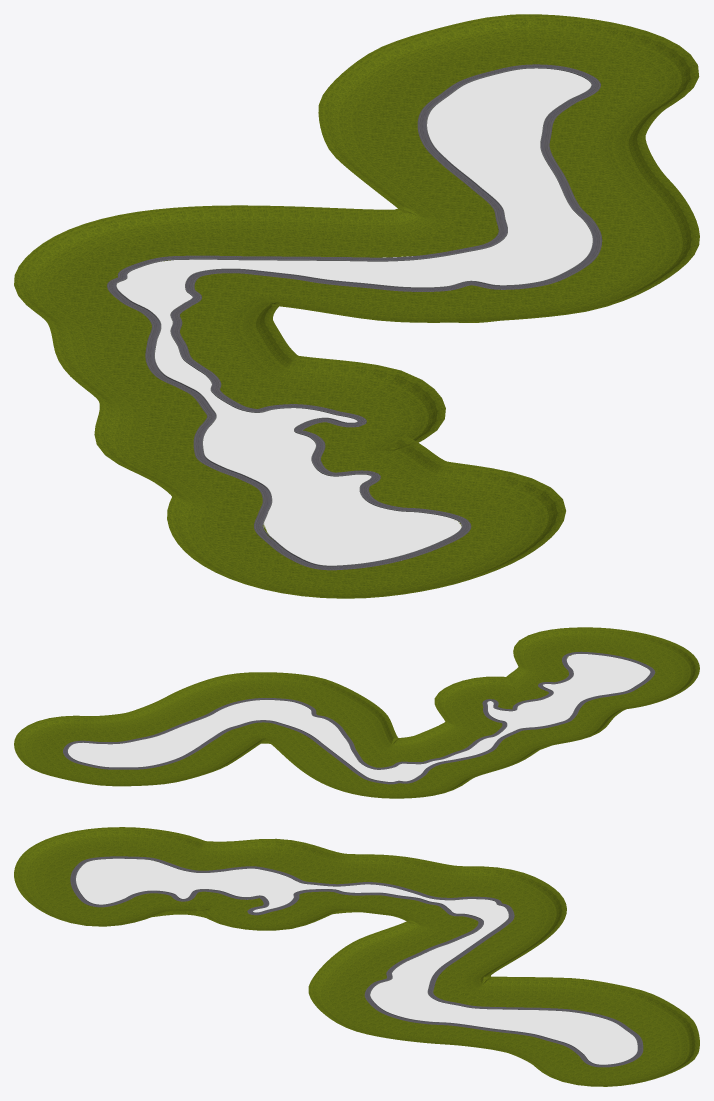
The model's file is park.gltf.
3 renders of one model, top to bottom at view 1: azimuth 30°, elevation 25°; view 2: azimuth 150°, elevation 25°; view 3: azimuth 270°, elevation 25°, orthographic. The views are drawn at different scales.
Parts seen in each view (by area): view 1: hill, grass, lake, path, lake_border; view 2: hill, grass, lake, path, lake_border; view 3: hill, grass, lake, path, lake_border.
Boxes of the visible parts, x1,y1,x2,y2 form: hill: (14, 14, 699, 598); grass: (64, 45, 649, 586); lake: (116, 68, 592, 565); path: (107, 64, 602, 570); lake_border: (116, 67, 593, 566); hill: (14, 627, 699, 798); grass: (39, 643, 674, 792); lake: (68, 654, 650, 781); path: (63, 651, 655, 784); lake_border: (67, 653, 650, 782); hill: (14, 827, 699, 1086); grass: (44, 845, 669, 1079); lake: (76, 858, 637, 1064); path: (70, 856, 643, 1067); lake_border: (75, 858, 637, 1065).
Size of the model in its own units: 421 by 4.48 by 470.
4 materials, 2 textured.
